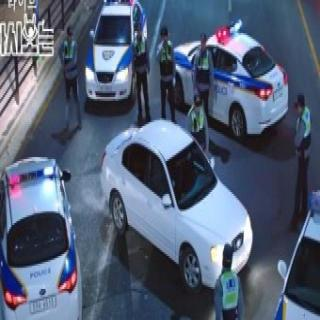Police_car: (173, 19, 291, 142), (0, 154, 83, 320), (268, 188, 320, 320), (85, 0, 148, 107)
